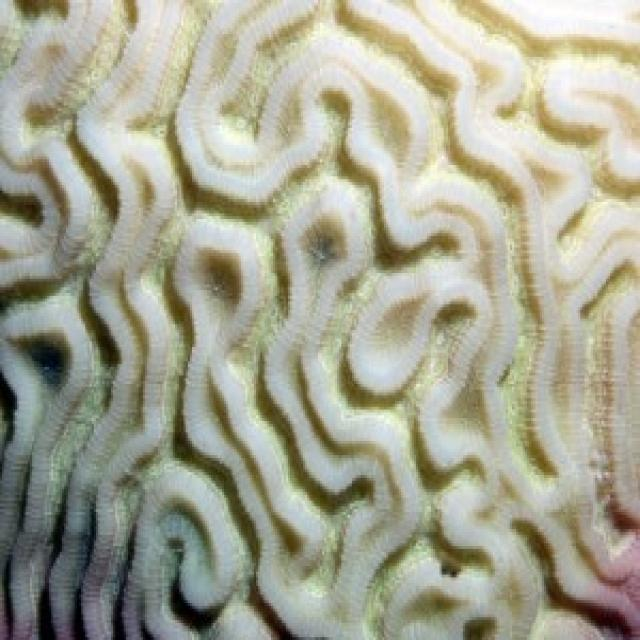Bleached: (6, 5, 640, 639)
